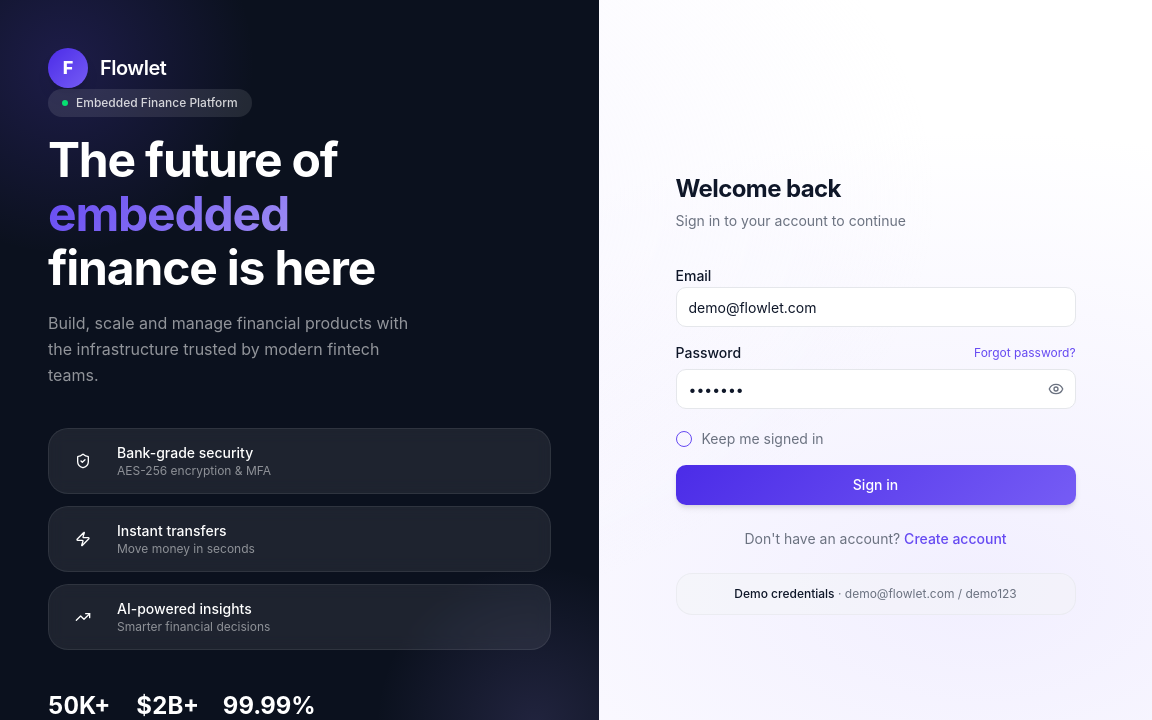
Test: LoginScreen › toggles password visibility
Click the 1st button: (1056, 389) [1048,381,1064,397]
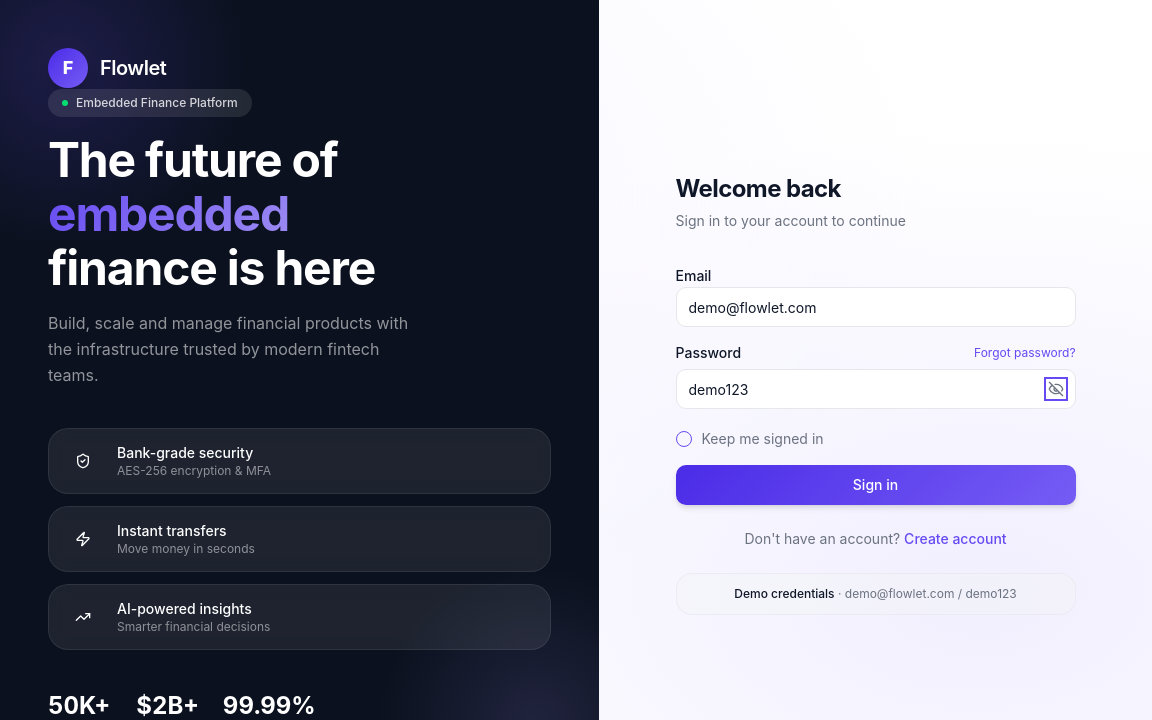
Check: the field labelled "Password" shows its text, box [676,369,1076,409]
